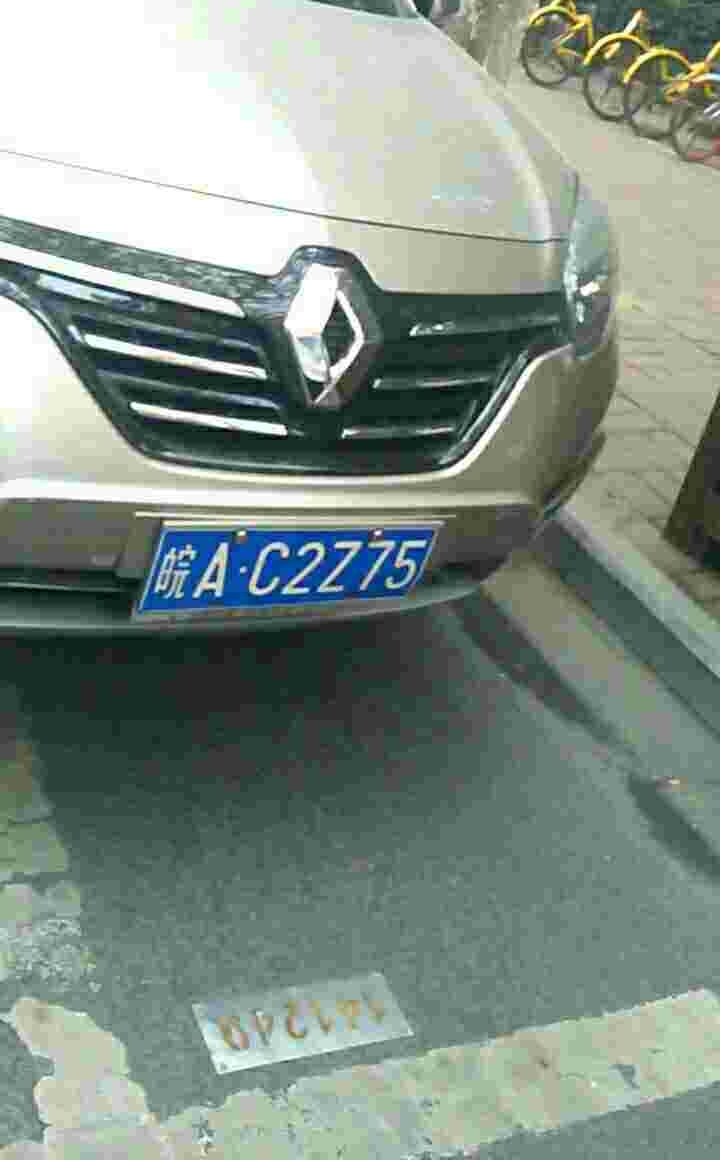car: (140, 515, 451, 615)
